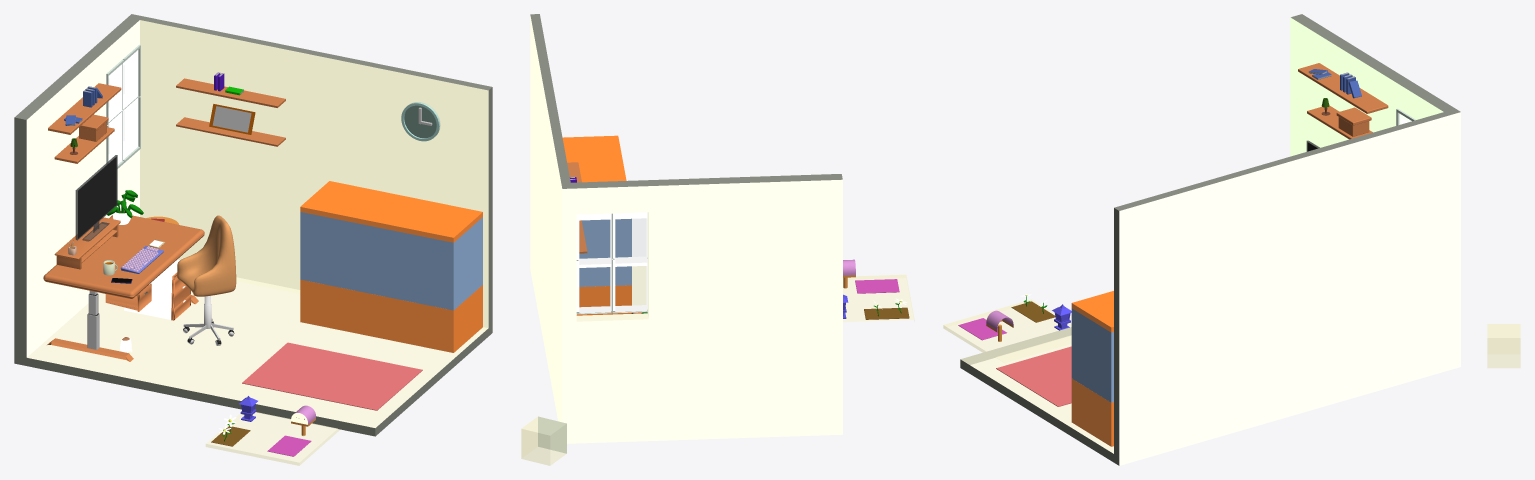
The model's file is Final3 Room.glb.
The picture shows the model from 3 angles, left to right: view 1: azimuth 30°, elevation 25°; view 2: azimuth 150°, elevation 25°; view 3: azimuth 270°, elevation 25°; orthographic projection. The views are drawn at different scales.
Visible parts, largest first — view 1: Wall, Aquarium box, Aquarium water, Floor items, Desks, Shlefs, Extra Floor, Desk stuff, Chair sit, computer screen, Clock, Ground; view 2: Wall, Aquarium box, Aquarium water, Extra Floor, Cube, Ground, Shlefs; view 3: Wall, Extra Floor, Shlefs, Aquarium water, Aquarium box, Floor items, Cube, Ground.
Part boxes in pixels (<box>): Wall: <box>14,14,492,436</box>; Aquarium box: <box>300,181,482,352</box>; Aquarium water: <box>300,212,482,310</box>; Floor items: <box>120,259,422,410</box>; Desks: <box>43,215,204,361</box>; Shlefs: <box>48,72,285,163</box>; Extra Floor: <box>205,396,340,465</box>; Desk stuff: <box>54,190,165,283</box>; Chair sit: <box>177,215,236,296</box>; computer screen: <box>75,155,117,241</box>; Clock: <box>401,102,440,141</box>; Ground: <box>211,426,311,456</box>; Wall: <box>530,14,842,443</box>; Aquarium box: <box>562,135,631,315</box>; Aquarium water: <box>579,218,631,286</box>; Extra Floor: <box>843,274,914,322</box>; Cube: <box>521,416,566,465</box>; Ground: <box>855,279,909,319</box>; Shlefs: <box>567,162,587,253</box>; Wall: <box>960,14,1460,465</box>; Extra Floor: <box>943,293,1071,362</box>; Shlefs: <box>1298,63,1388,139</box>; Aquarium water: <box>1071,308,1113,402</box>; Aquarium box: <box>1071,291,1113,446</box>; Floor items: <box>996,346,1071,406</box>; Cube: <box>1487,324,1520,368</box>; Ground: <box>958,301,1055,340</box>.
Size of the model in its own units: 15.58 by 9.5 by 19.29.
